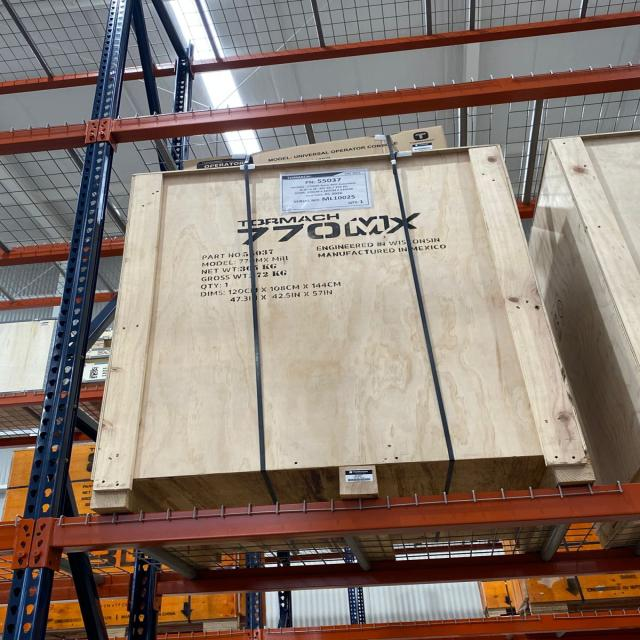15lx: (91, 130, 594, 513)
770b: (92, 139, 590, 513)
